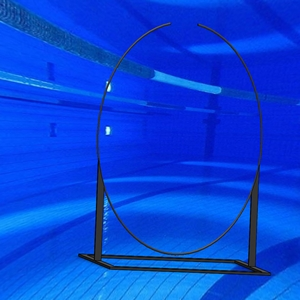circle: (77, 20, 272, 276)
